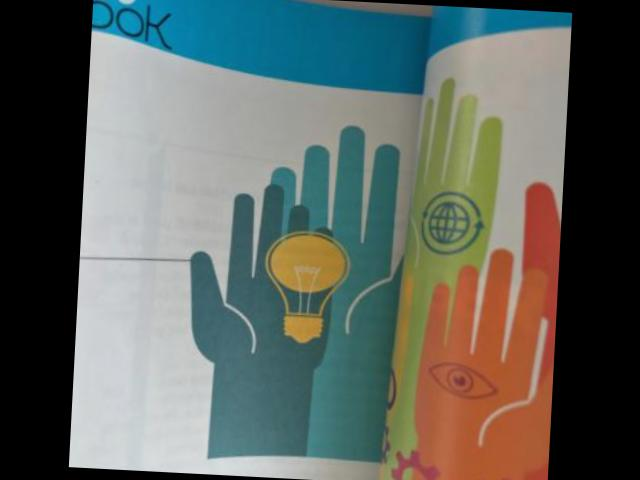cardboard paper: (68, 0, 572, 480)
